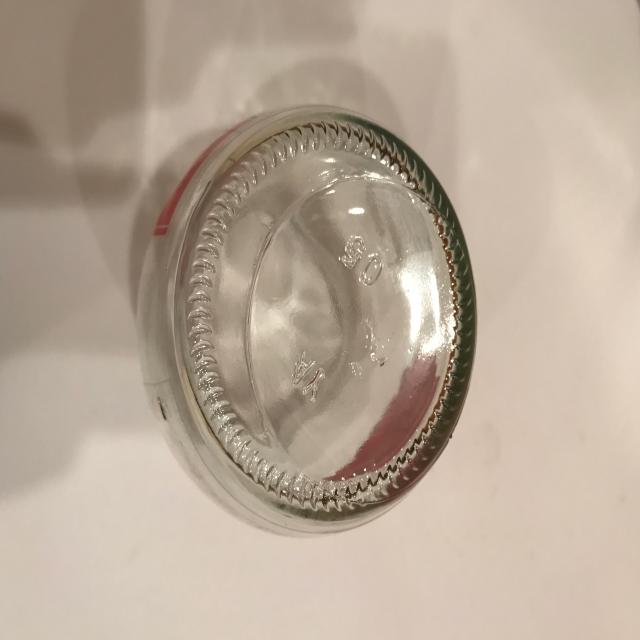glass: (131, 102, 478, 537)
